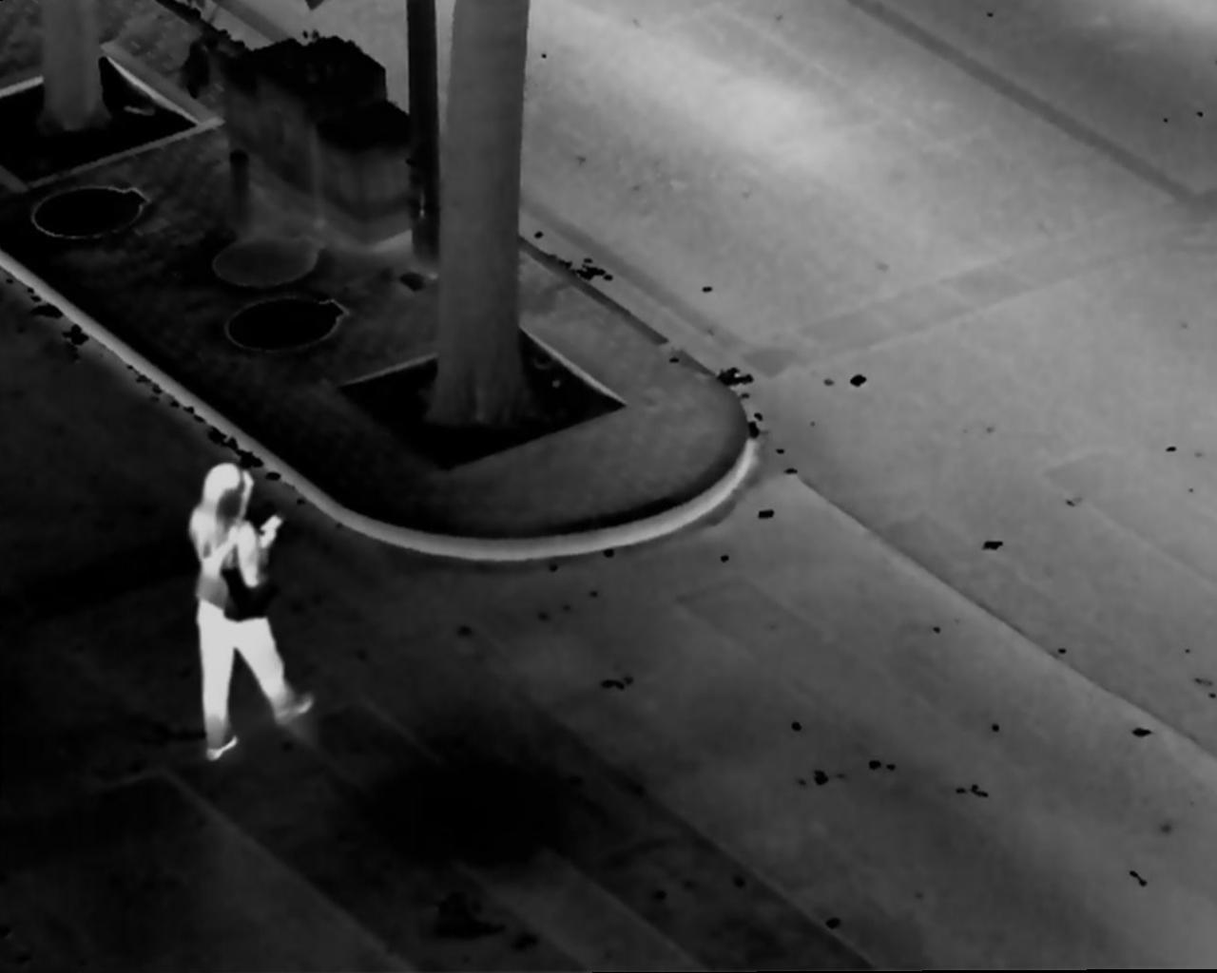person: (184, 463, 320, 759)
